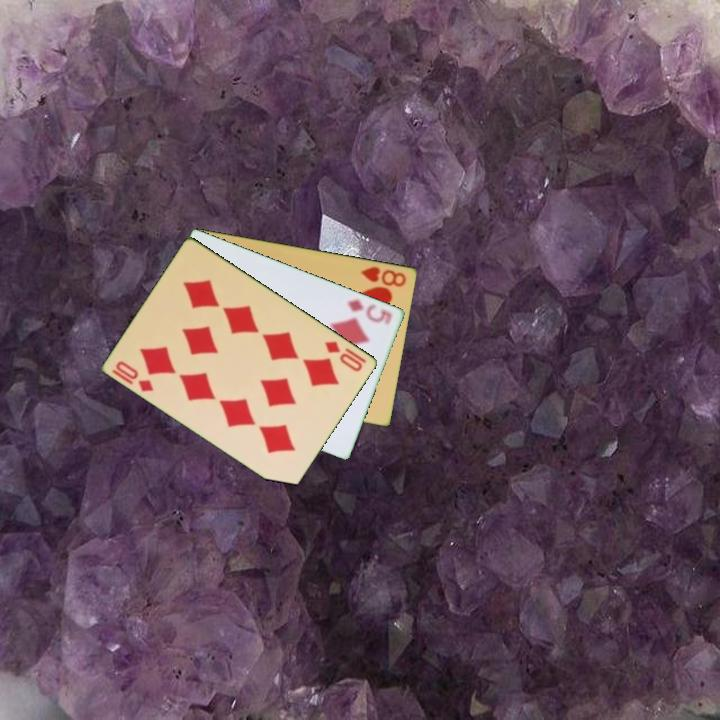10d: (109, 357, 157, 395), (321, 337, 366, 374)
5d: (345, 295, 396, 328)
8h: (358, 262, 409, 289)
